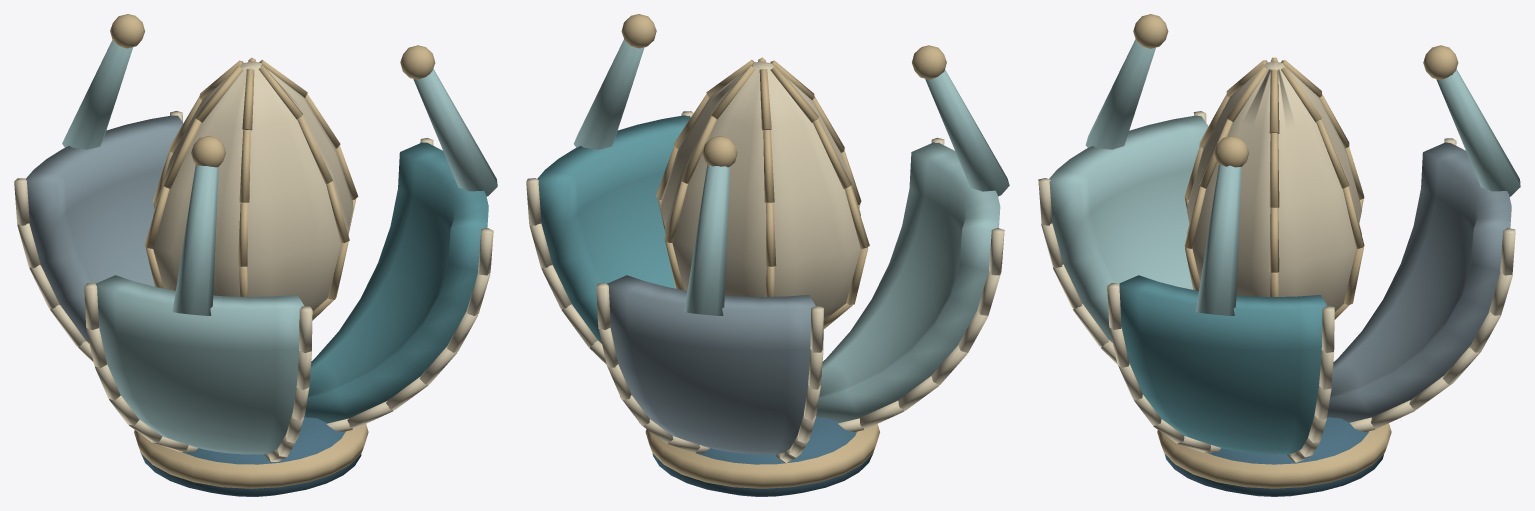
File: ART-15.glb
The picture shows the model from 3 angles, left to right: view 1: azimuth 30°, elevation 25°; view 2: azimuth 150°, elevation 25°; view 3: azimuth 270°, elevation 25°; orthographic projection.
Visible parts, largest first — view 1: world; view 2: world; view 3: world.
Part boxes in pixels (x1,y1,x2,y2): world: (14, 14, 497, 496); world: (526, 14, 1009, 496); world: (1038, 14, 1520, 496).
Bounding box in the file's own units: 2 × 1.84 × 1.99.
